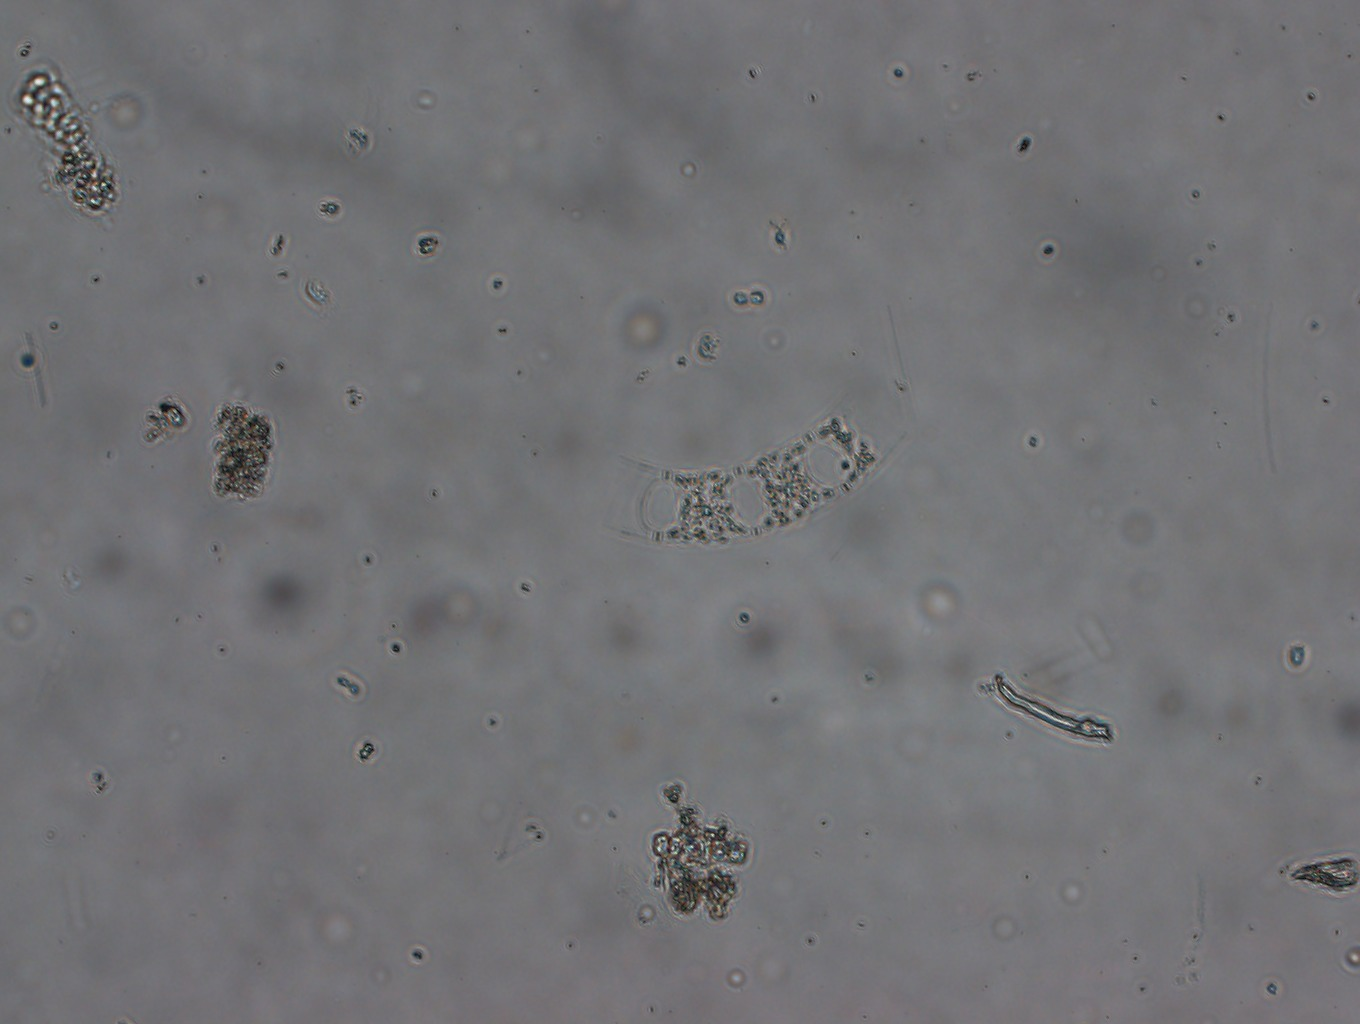eucampia: (586, 392, 920, 547)
